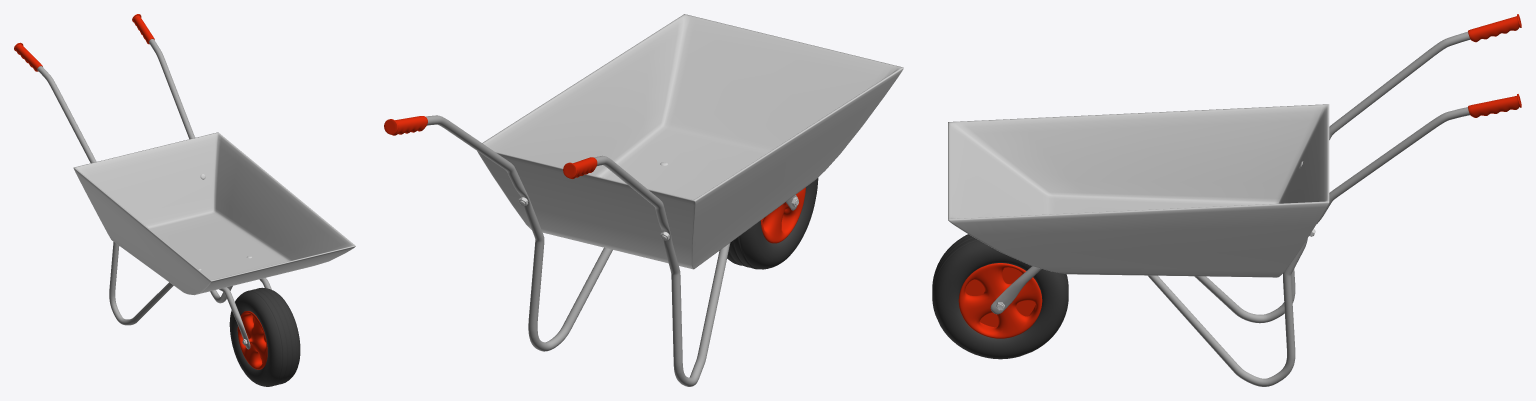
File: Wheelbarrow.fbx
3 renders of one model, left to right at view 1: azimuth 30°, elevation 25°; view 2: azimuth 150°, elevation 25°; view 3: azimuth 270°, elevation 25°, orthographic. The views are drawn at different scales.
Visible parts, largest first — view 1: Container, Wheel, Metal_Frame, Metal_Frame_Endings; view 2: Container, Metal_Frame, Wheel, Metal_Frame_Endings; view 3: Container, Wheel, Metal_Frame, Metal_Frame_Endings.
Boxes of the visible parts, x1,y1,x2,y2 form: Container: (73,132,355,295); Wheel: (229,287,300,386); Metal_Frame: (37,39,271,349); Metal_Frame_Endings: (14,14,154,71); Container: (477,14,903,269); Metal_Frame: (426,115,797,386); Wheel: (727,178,818,269); Metal_Frame_Endings: (384,116,597,179); Container: (948,104,1329,277); Wheel: (932,234,1068,359); Metal_Frame: (990,31,1470,386); Metal_Frame_Endings: (1468,14,1521,117).
Size of the model in its own units: 58.72 by 149 by 83.78.
